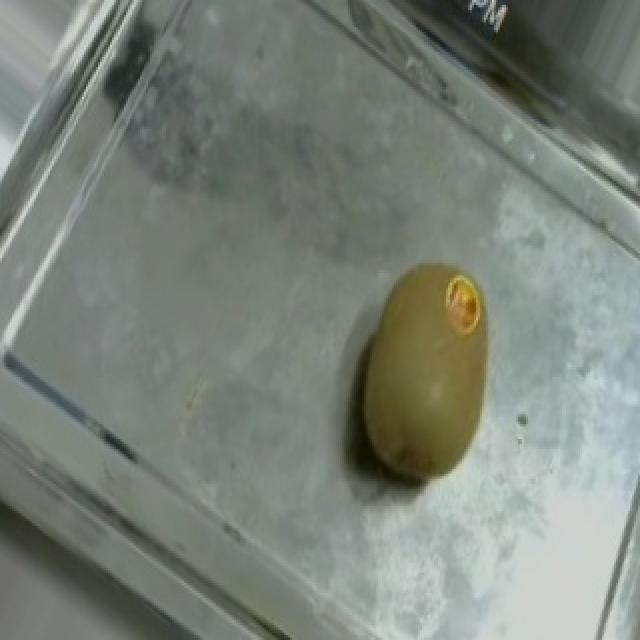Fruit: (318, 236, 530, 511)
